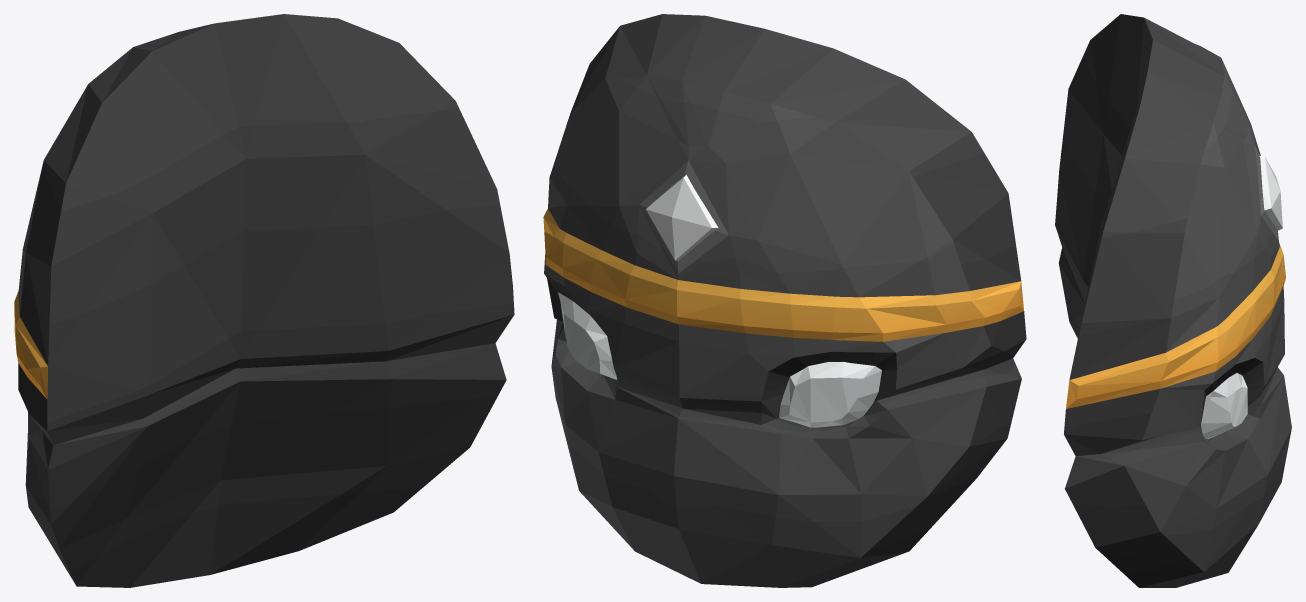
File: CharSkyKid_Mask_Traveler_01.glb
3 views of the same model, side by side, from view 1: azimuth 30°, elevation 25°; view 2: azimuth 150°, elevation 25°; view 3: azimuth 270°, elevation 25° (orthographic). The views are drawn at different scales.
Visible parts, largest first — view 1: CharSkyKid_Mask_Traveler_01; view 2: CharSkyKid_Mask_Traveler_01; view 3: CharSkyKid_Mask_Traveler_01.
Part boxes in pixels (x1,y1,x2,y2): CharSkyKid_Mask_Traveler_01: (14,14,514,587); CharSkyKid_Mask_Traveler_01: (543,14,1026,587); CharSkyKid_Mask_Traveler_01: (1055,14,1291,587).
Size of the model in its own units: 2.14 by 2.49 by 1.04.
1 material, 1 textured.
